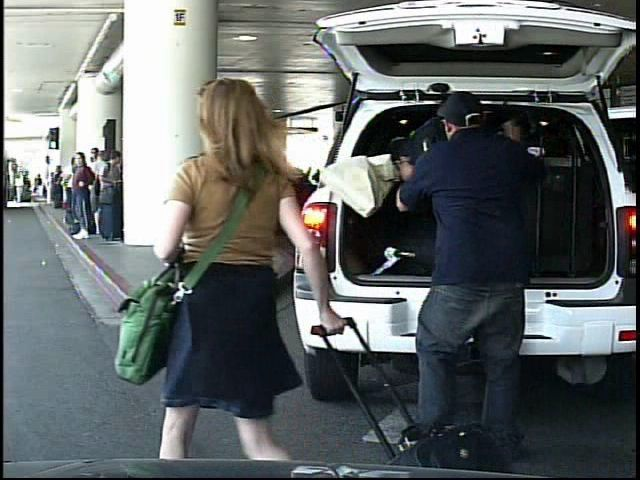person: (155, 68, 330, 463), (386, 80, 549, 439), (302, 166, 314, 192), (15, 174, 25, 204), (35, 173, 46, 200)
